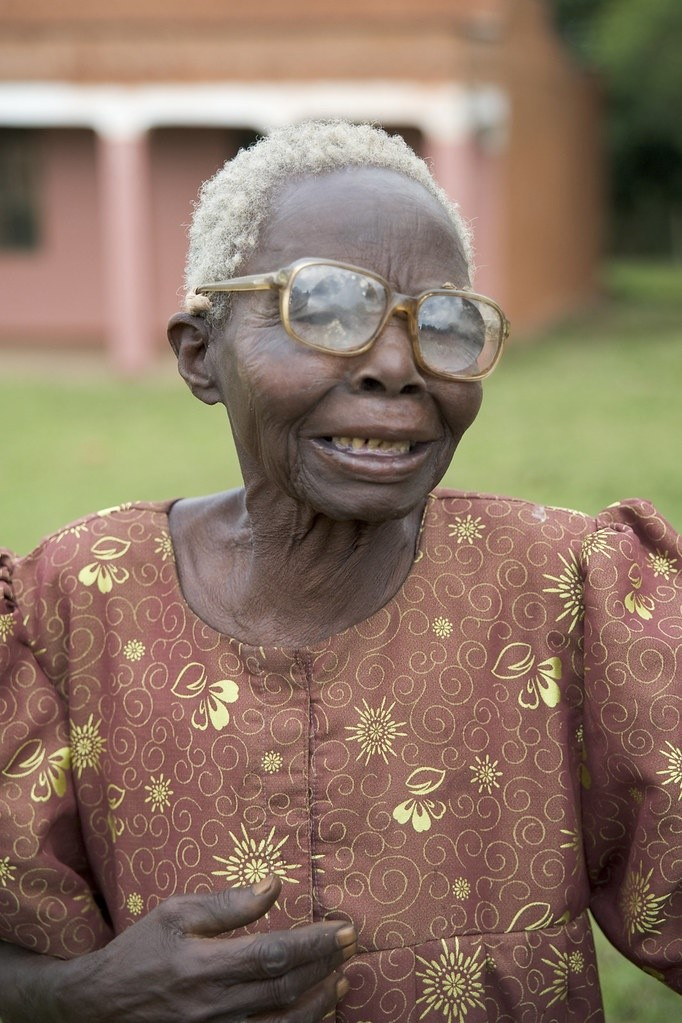face_no_mask: (202, 164, 499, 535)
